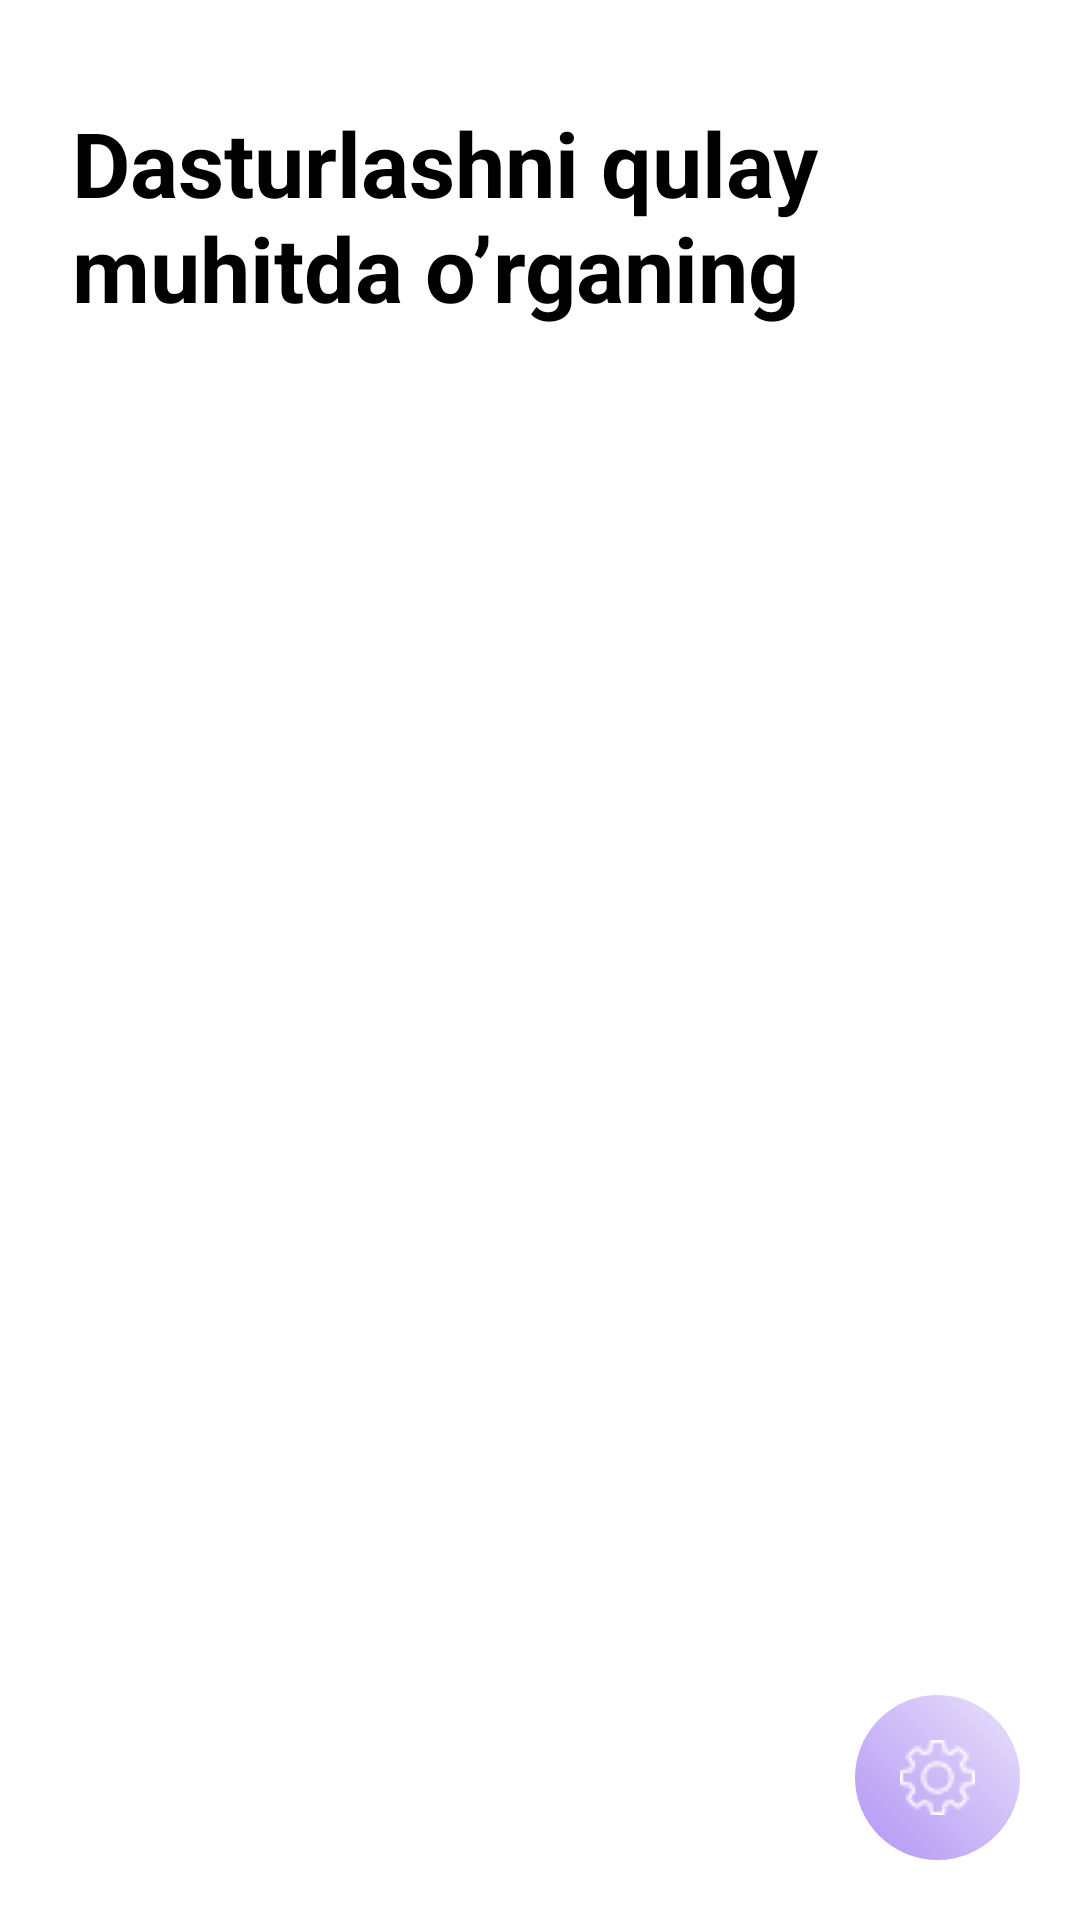

Icon bounding boxes for this 1080px×1920px phone screenshot, format detection(x1, y1, x2, y2):
settings: detection(855, 1695, 1020, 1860)
